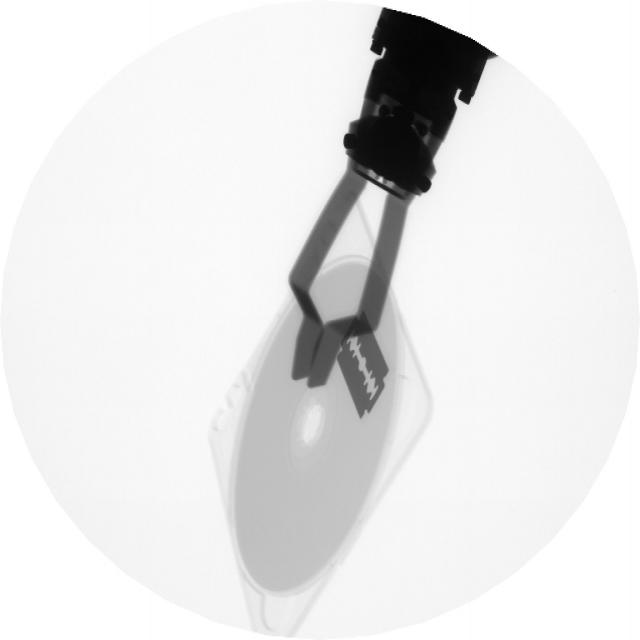BLADE: (334, 309, 397, 426)
